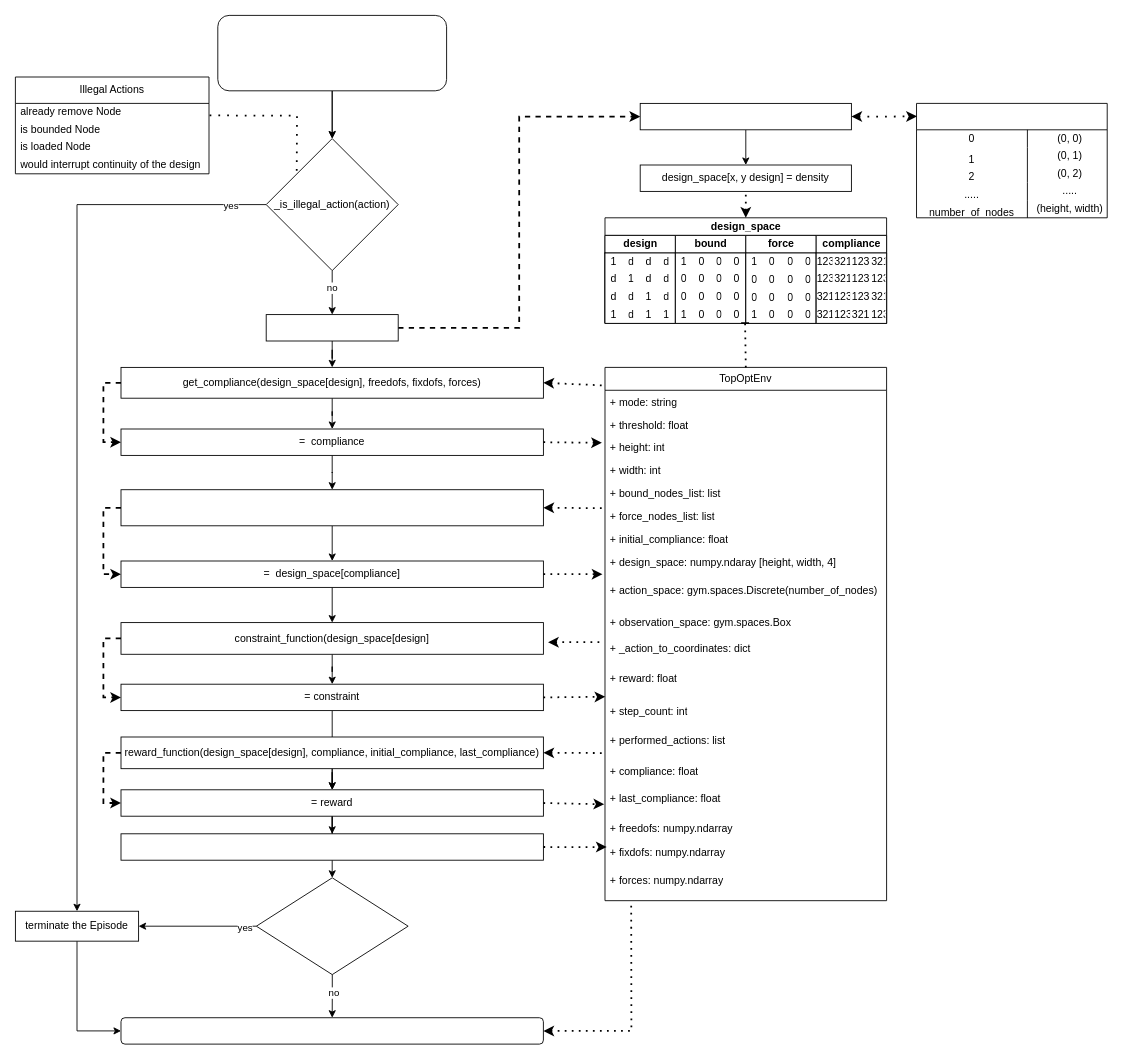
Some shapes in this 1123 by 1060 pixel diagram are drawn without their labels. The box of each missing label's shape, as (x1, y1, x2, y2) in pixels:
actions_to_coordinates: (916, 103, 1107, 218)
get_compliance_per_element(design_space[design], freedofs, fixdofs, forces): (120, 489, 543, 526)
is mode =="eval" and constraint < threshold: (255, 877, 408, 975)
performed_actions.append(action): (120, 833, 543, 860)
remove_node(action): (265, 314, 398, 341)
return: design_space, reward, terminated, False, get_info: (120, 1017, 543, 1044)
TopOptEnv.step(action): (217, 15, 447, 91)
x, y = actions_to_coordinates(action): (639, 103, 851, 130)
